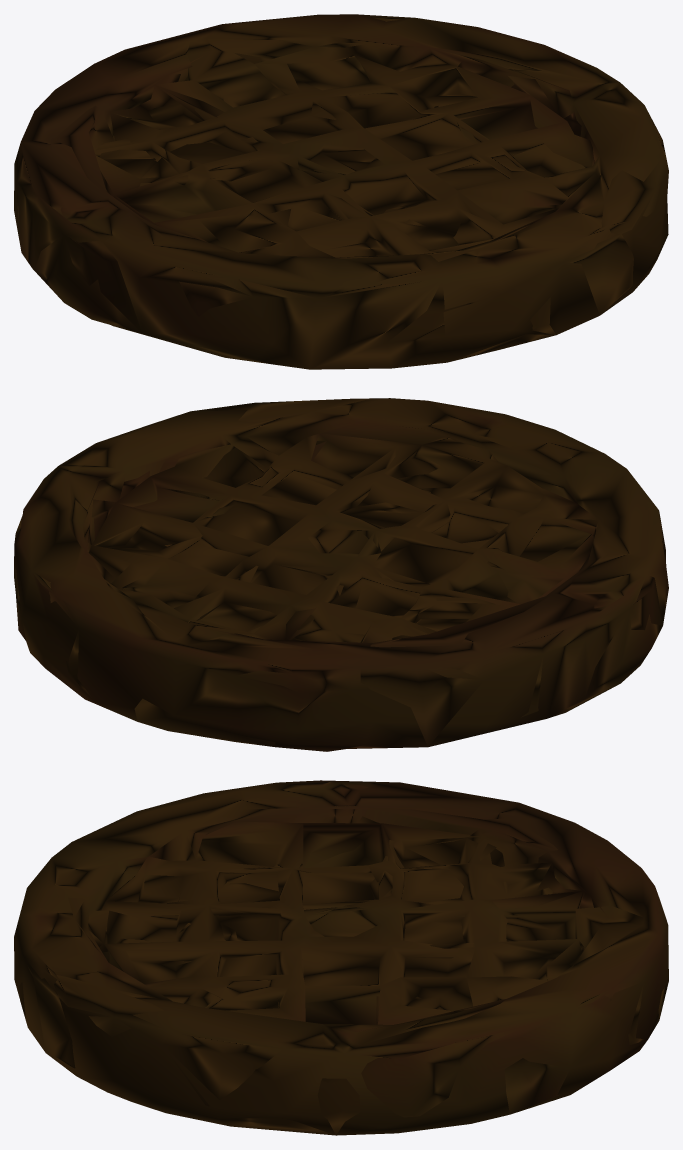
The model's file is gen3d-manhole-cover-lod0.glb.
The picture shows the model from 3 angles, top to bottom: view 1: azimuth 30°, elevation 25°; view 2: azimuth 150°, elevation 25°; view 3: azimuth 270°, elevation 25°; orthographic projection.
Visible parts, largest first — view 1: part_0; view 2: part_0; view 3: part_0.
Part boxes in pixels (<box>): part_0: <box>14,14,668,369</box>; part_0: <box>14,398,668,751</box>; part_0: <box>14,780,668,1135</box>.
Size of the model in its own units: 6.93 by 0.9997 by 6.96.
